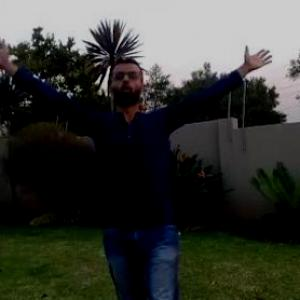takeoff: (1, 31, 299, 299)
